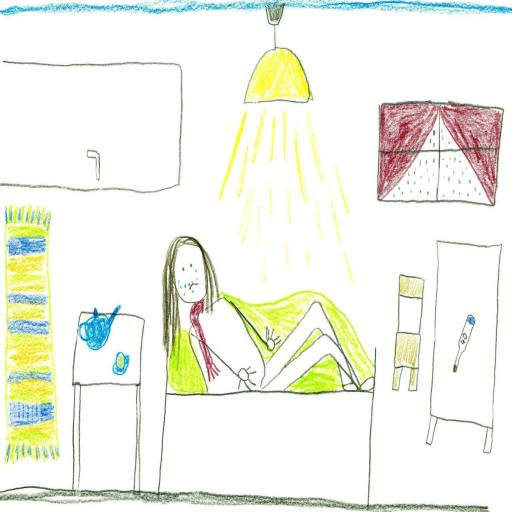person: (155, 229, 376, 424)
